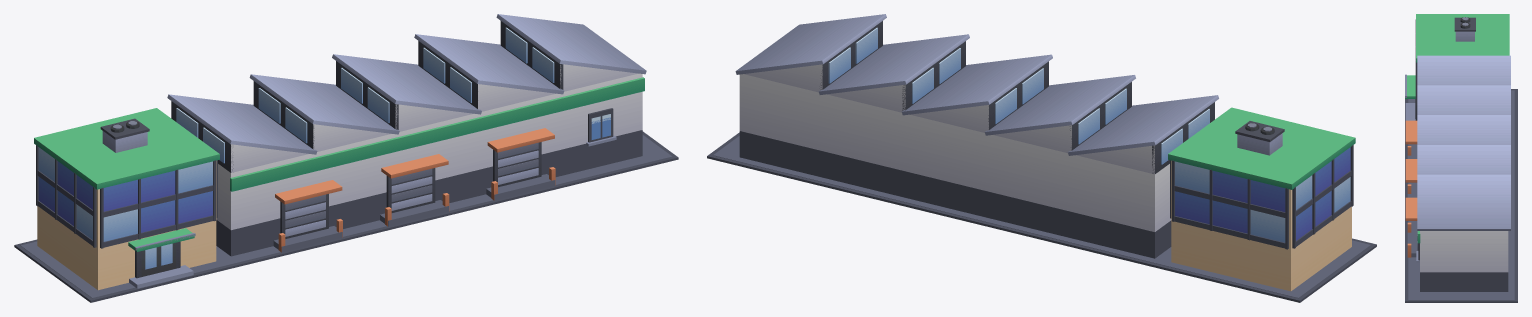
File: ind_assembly_plant_4x1.glb
3 renders of one model, left to right at view 1: azimuth 30°, elevation 25°; view 2: azimuth 150°, elevation 25°; view 3: azimuth 270°, elevation 25°, orthographic. The views are drawn at different scales.
Parts seen in each view (by area): view 1: ind_assembly_plant_4x1; view 2: ind_assembly_plant_4x1; view 3: ind_assembly_plant_4x1.
Part boxes in pixels (left/top/right/bottom): ind_assembly_plant_4x1: left=14, top=14, right=678, bottom=302; ind_assembly_plant_4x1: left=707, top=14, right=1376, bottom=302; ind_assembly_plant_4x1: left=1405, top=14, right=1517, bottom=302.
Size of the model in its own units: 7.74 by 1.64 by 1.74.
Materials: 1 (1 with a texture image).
